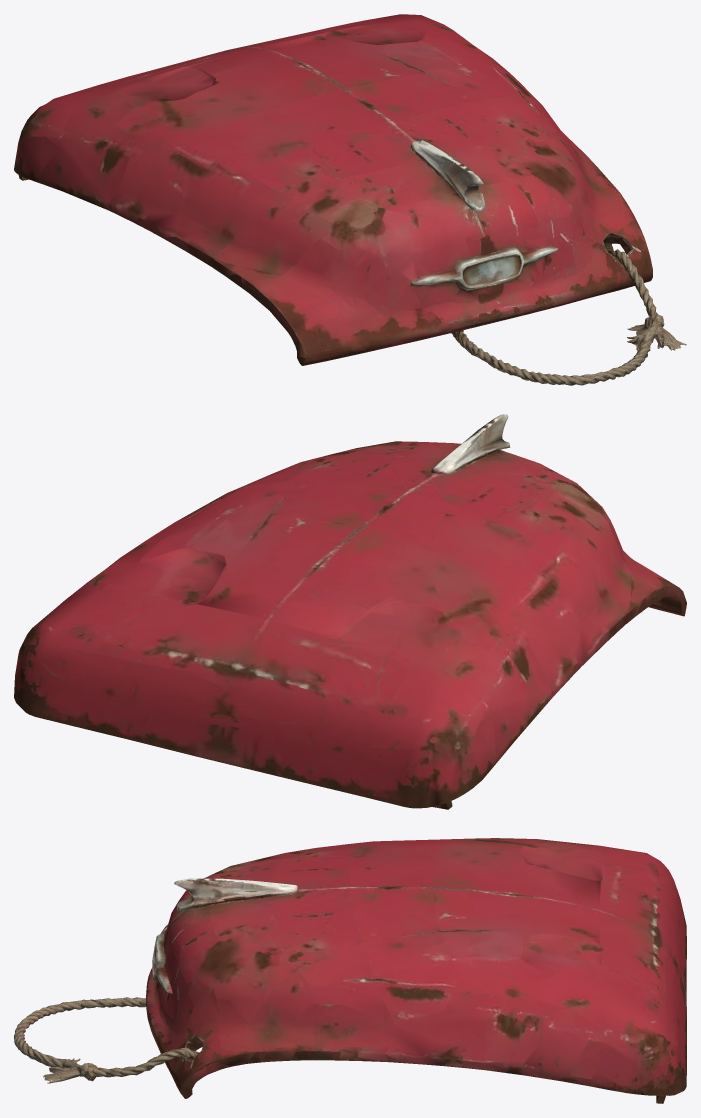
File: prop-bonnet.glb
3 views of the same model, one above another, from view 1: azimuth 30°, elevation 25°; view 2: azimuth 150°, elevation 25°; view 3: azimuth 270°, elevation 25° (orthographic). The views are drawn at different scales.
Size of the model in its own units: 1.33 by 0.4445 by 1.9.
Materials: 1 (1 with a texture image).
